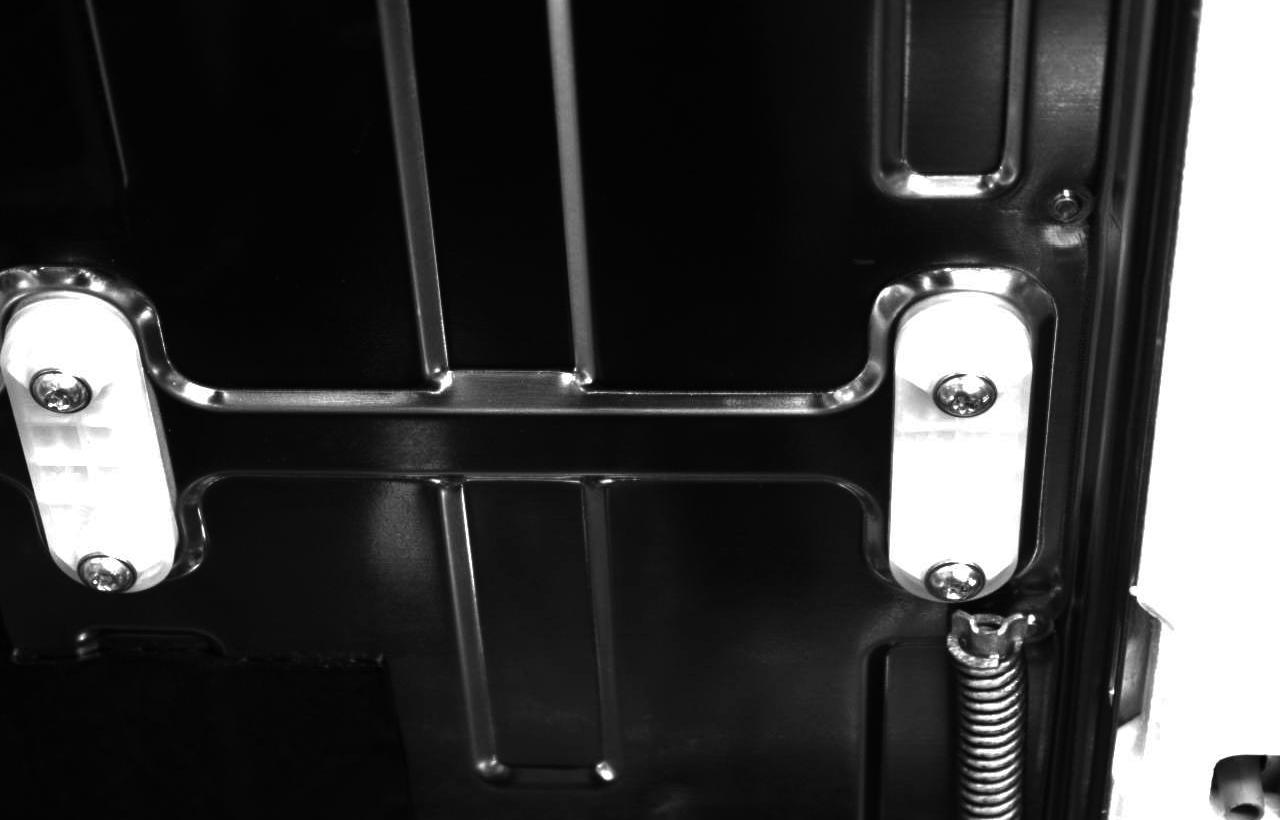vida-ok: (21, 361, 107, 438), (926, 361, 1014, 433), (68, 539, 146, 603), (923, 548, 999, 607)
